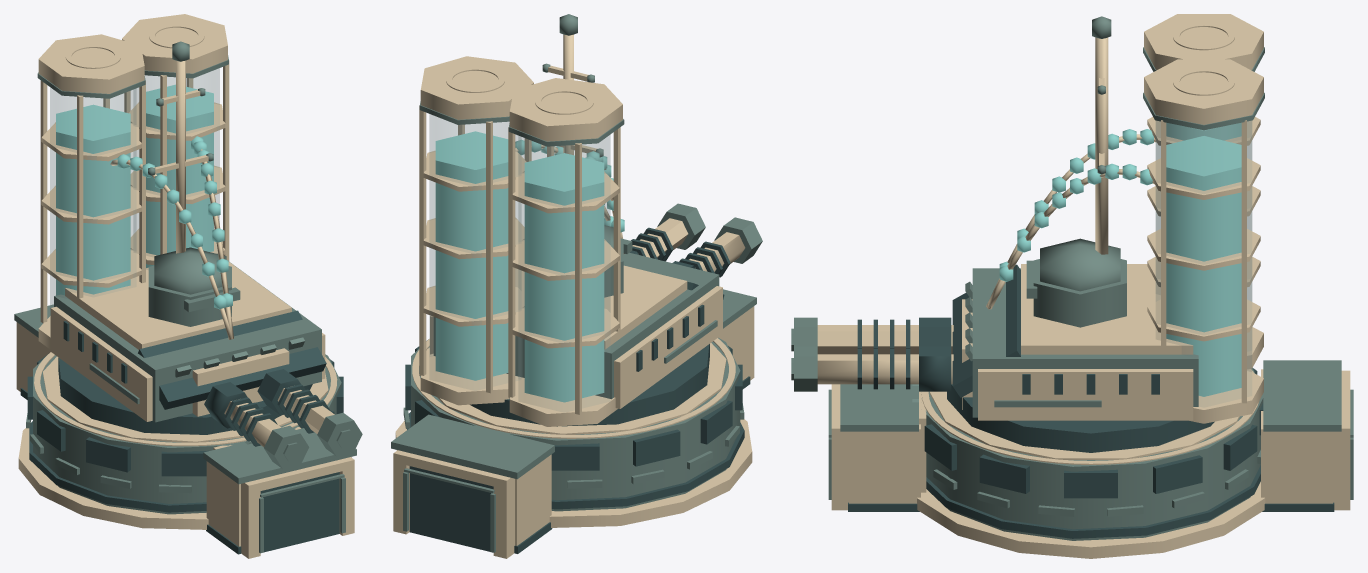
The model's file is Machinegoon_T2.glb.
3 views of the same model, side by side, from view 1: azimuth 30°, elevation 25°; view 2: azimuth 150°, elevation 25°; view 3: azimuth 270°, elevation 25° (orthographic). The views are drawn at different scales.
Visible parts, largest first — view 1: Machinegoon_T2_Turret, Machinegoon_T2_Base, CapNeon; view 2: Machinegoon_T2_Turret, Machinegoon_T2_Base, CapNeon; view 3: Machinegoon_T2_Turret, Machinegoon_T2_Base, CapNeon.
Boxes of the visible parts, x1,y1,x2,y2 form: Machinegoon_T2_Turret: (37, 14, 362, 469); Machinegoon_T2_Base: (14, 304, 356, 558); CapNeon: (34, 24, 337, 446); Machinegoon_T2_Turret: (419, 14, 762, 426); Machinegoon_T2_Base: (391, 289, 756, 558); CapNeon: (412, 67, 735, 438); Machinegoon_T2_Turret: (791, 14, 1264, 452); Machinegoon_T2_Base: (828, 360, 1353, 558); CapNeon: (921, 23, 1259, 464).
Bounding box in the file's own units: 3.5 × 4.77 × 5.23.
